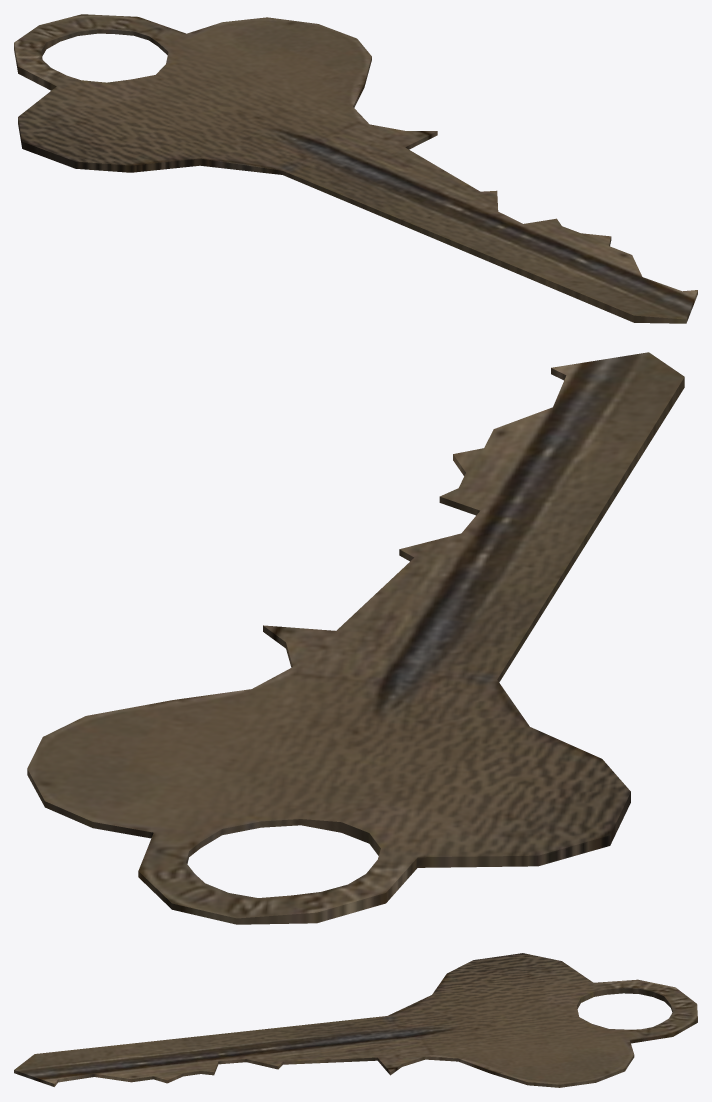
File: key.obj
3 renders of one model, top to bottom at view 1: azimuth 30°, elevation 25°; view 2: azimuth 150°, elevation 25°; view 3: azimuth 270°, elevation 25°, orthographic. The views are drawn at different scales.
Parts seen in each view (by area): view 1: Key-V2.001; view 2: Key-V2.001; view 3: Key-V2.001.
Part boxes in pixels (box(x1,y1,x2,y2)): Key-V2.001: box(14, 14, 697, 323); Key-V2.001: box(27, 352, 684, 924); Key-V2.001: box(14, 953, 697, 1087).
Size of the model in its own units: 0.4479 by 0.00859 by 1.
1 material, 1 textured.
